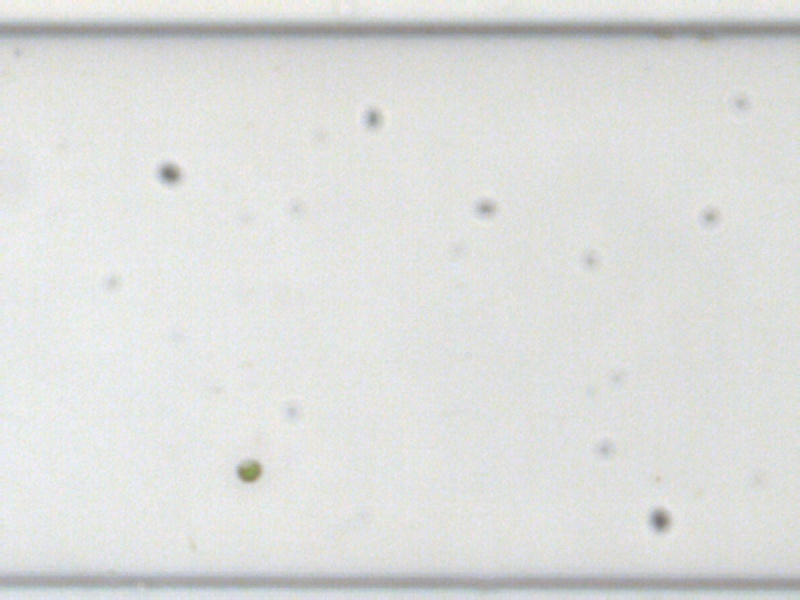Chlorella: (234, 456, 261, 480)
